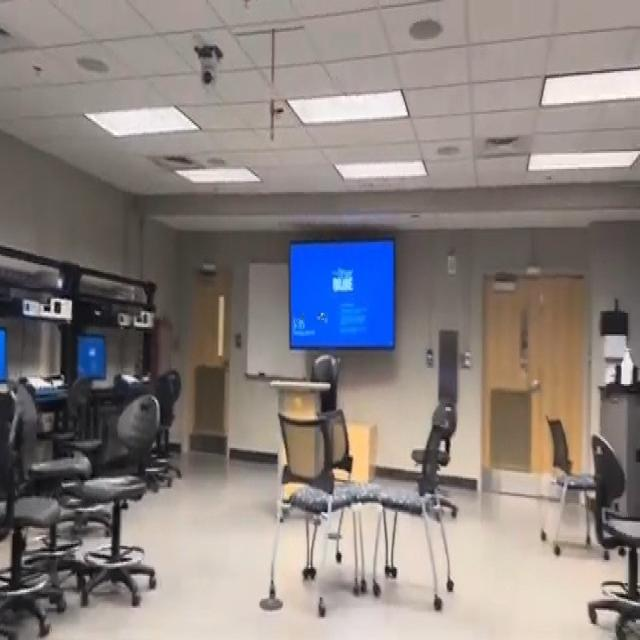drone: (314, 308, 330, 328)
